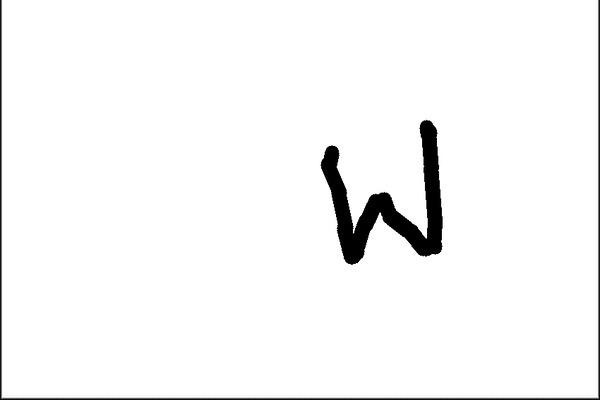w: (298, 112, 459, 270)
